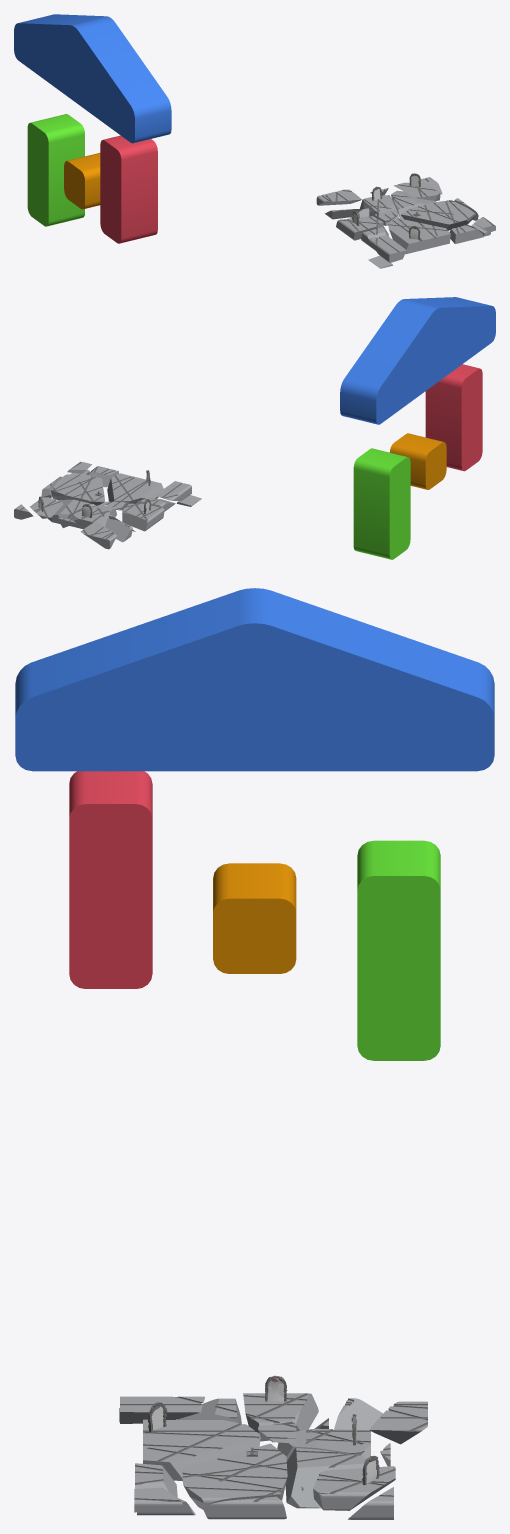
The model's file is Sahne_2.fbx.
3 views of the same model, one above another, from view 1: azimuth 30°, elevation 25°; view 2: azimuth 150°, elevation 25°; view 3: azimuth 270°, elevation 25° (orthographic). The views are drawn at different scales.
Parts seen in each view (by area): view 1: Evren_1, Platform_cell, Evren_2, Evren_4, Evren_3; view 2: Evren_1, Platform_cell, Evren_4, Evren_2, Evren_3; view 3: Evren_1, Platform_cell, Evren_4, Evren_2, Evren_3.
Part boxes in pixels (x1,y1,x2,y2): Evren_1: [14, 14, 171, 143]; Platform_cell: [316, 177, 495, 268]; Evren_2: [100, 135, 157, 243]; Evren_4: [27, 114, 84, 226]; Evren_3: [64, 153, 100, 209]; Evren_1: [340, 297, 495, 424]; Platform_cell: [14, 461, 201, 549]; Evren_4: [353, 448, 410, 559]; Evren_2: [425, 364, 482, 471]; Evren_3: [389, 433, 446, 489]; Evren_1: [15, 588, 494, 771]; Platform_cell: [119, 1393, 427, 1519]; Evren_4: [357, 840, 440, 1060]; Evren_2: [69, 771, 152, 988]; Evren_3: [213, 863, 296, 973].
Size of the model in its own units: 17183 by 11861 by 9200.
